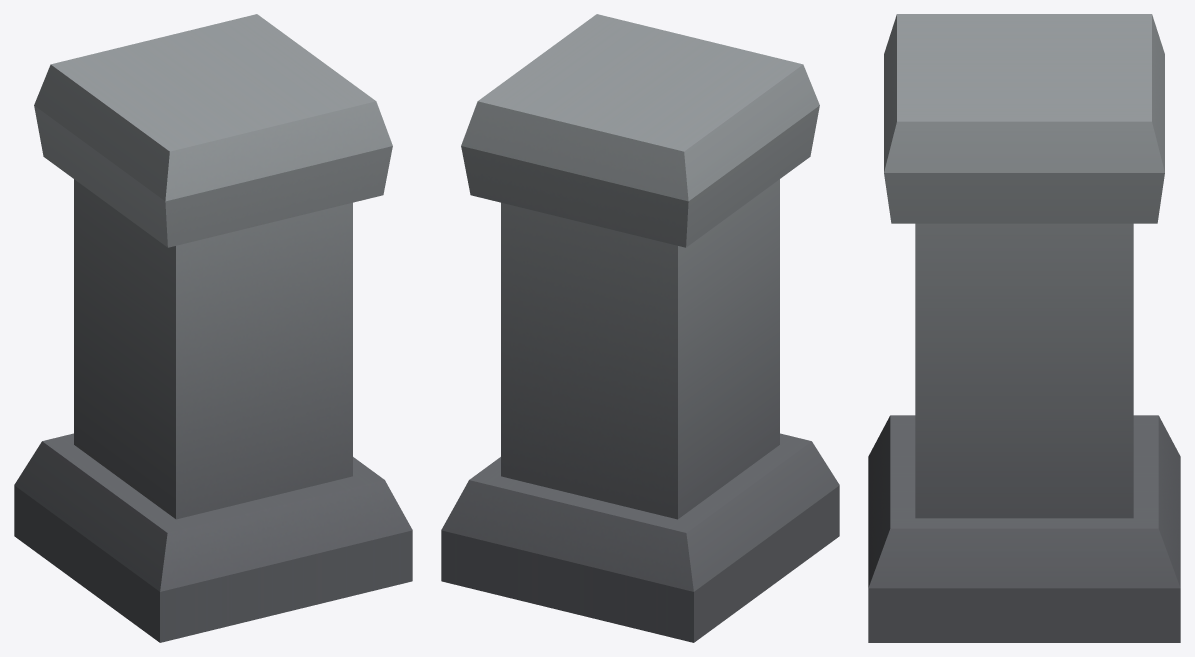
The model's file is SM_Pillar_Brick.fbx.
The picture shows the model from 3 angles, left to right: view 1: azimuth 30°, elevation 25°; view 2: azimuth 150°, elevation 25°; view 3: azimuth 270°, elevation 25°; orthographic projection. The views are drawn at different scales.
Parts seen in each view (by area): view 1: Pillar_Brick; view 2: Pillar_Brick; view 3: Pillar_Brick.
Part boxes in pixels (x1,y1,x2,y2): Pillar_Brick: (14, 14, 412, 642); Pillar_Brick: (441, 14, 839, 642); Pillar_Brick: (868, 14, 1180, 642).
Size of the model in its own units: 111 by 200 by 111.
